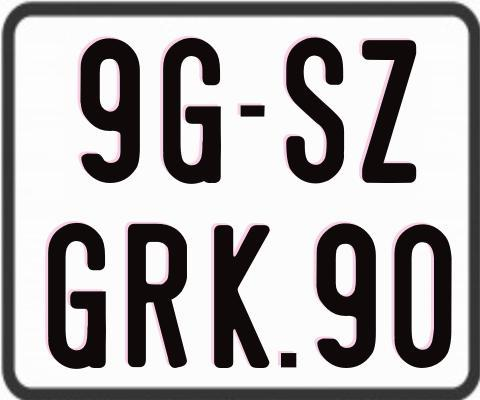0: (391, 221, 451, 366)
9: (78, 36, 141, 182), (314, 222, 374, 368)
G: (46, 221, 107, 371), (160, 38, 221, 185)
K: (211, 224, 269, 370)
R: (128, 222, 190, 368)
S: (283, 35, 345, 185)
Z: (361, 37, 417, 185)
